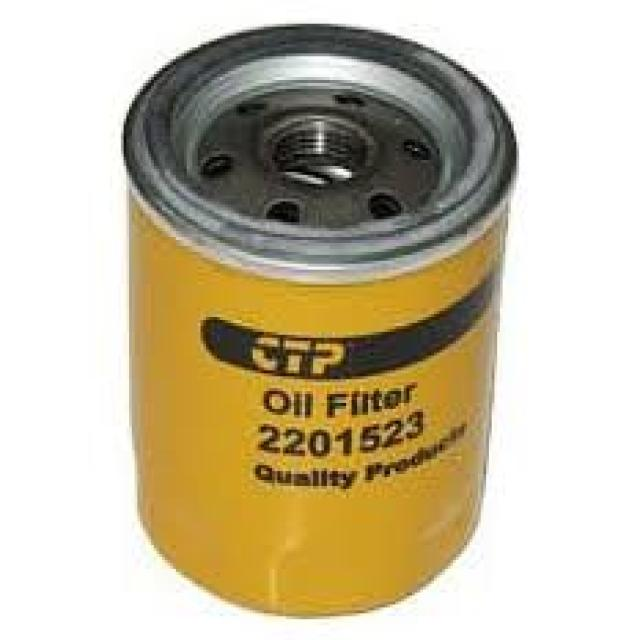oil_filter: (111, 10, 528, 622)
